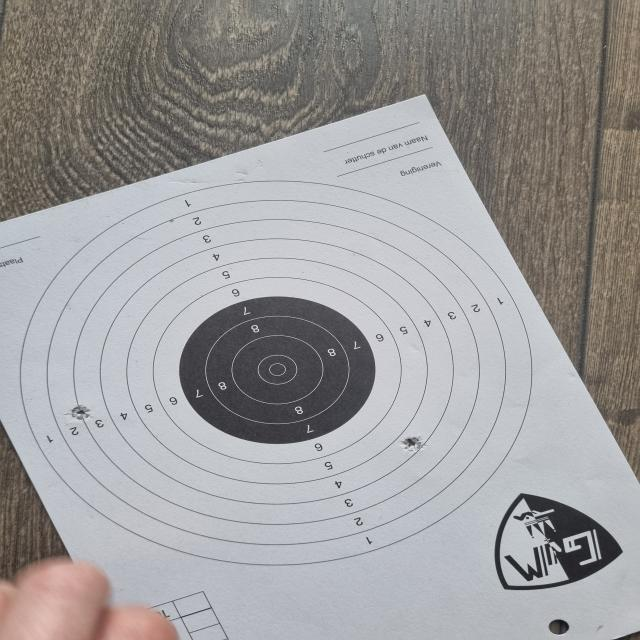4: (64, 406, 93, 420)
6: (402, 437, 428, 452)
Black Contour: (178, 294, 374, 444)
Target: (23, 178, 532, 568)
